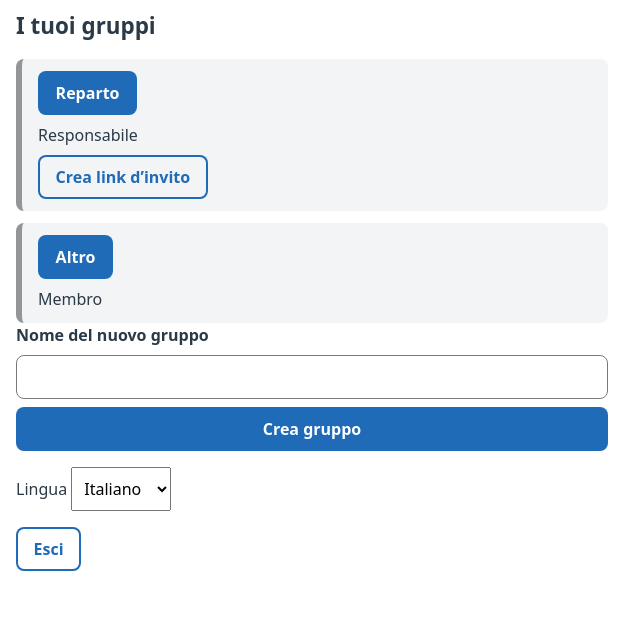
it: shows an alert when the invite cannot be created
Click the button "Crea link d’invito" at (123, 177), box [38,155,208,199]
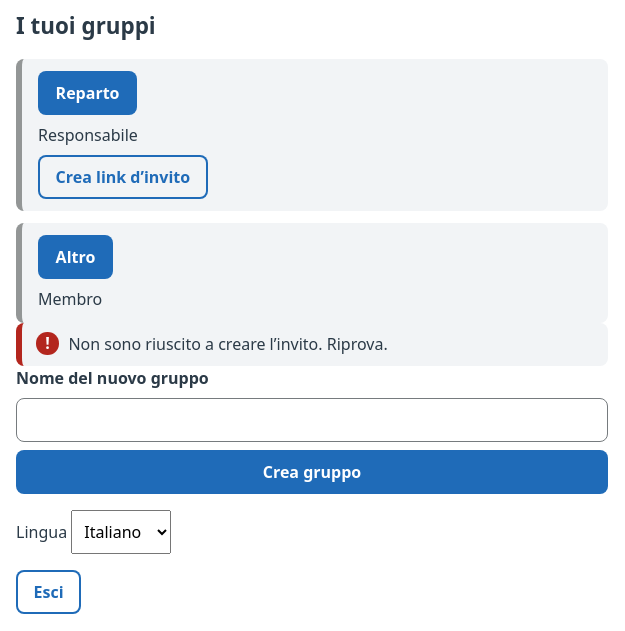
Check: the message shows "Non sono riuscito a creare l’invito", box [68,333,388,355]
